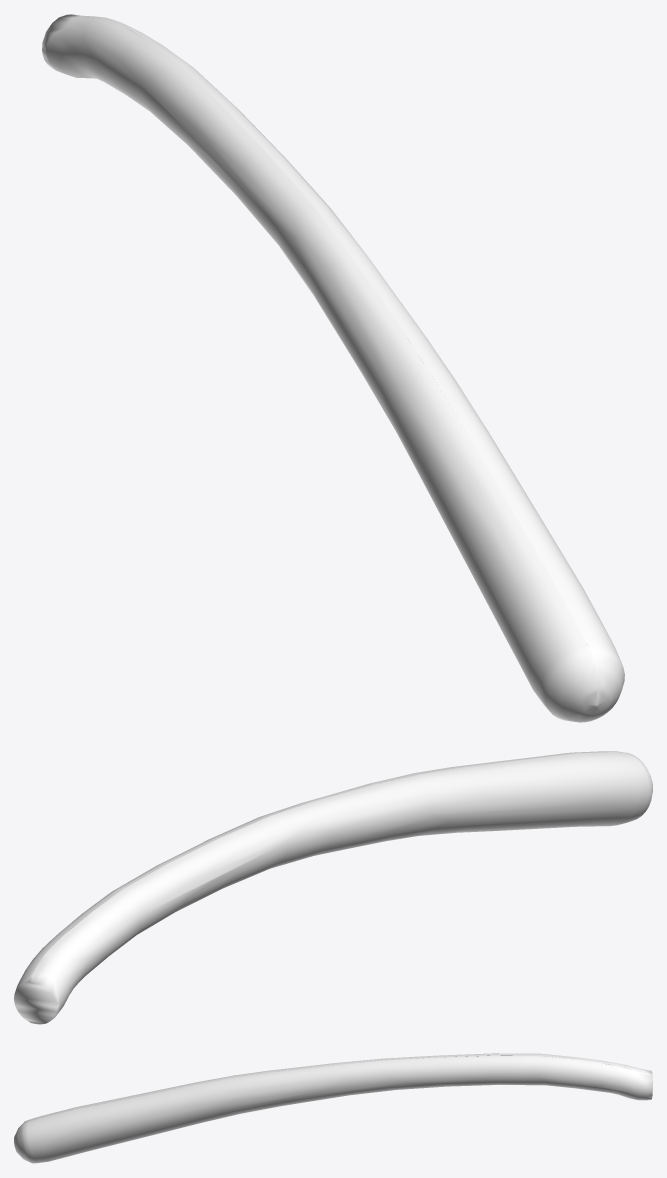
The model's file is hk_arm_right0_iselda.obj.
3 renders of one model, top to bottom at view 1: azimuth 30°, elevation 25°; view 2: azimuth 150°, elevation 25°; view 3: azimuth 270°, elevation 25°, orthographic. The views are drawn at different scales.
Parts seen in each view (by area): view 1: Object_51_HeadIselda; view 2: Object_51_HeadIselda; view 3: Object_51_HeadIselda.
Boxes of the visible parts, x1,y1,x2,y2 form: Object_51_HeadIselda: (42, 14, 624, 722); Object_51_HeadIselda: (14, 751, 652, 1024); Object_51_HeadIselda: (14, 1053, 652, 1163).
Bounding box in the file's own units: 0.1258 × 0.1816 × 0.8046.
